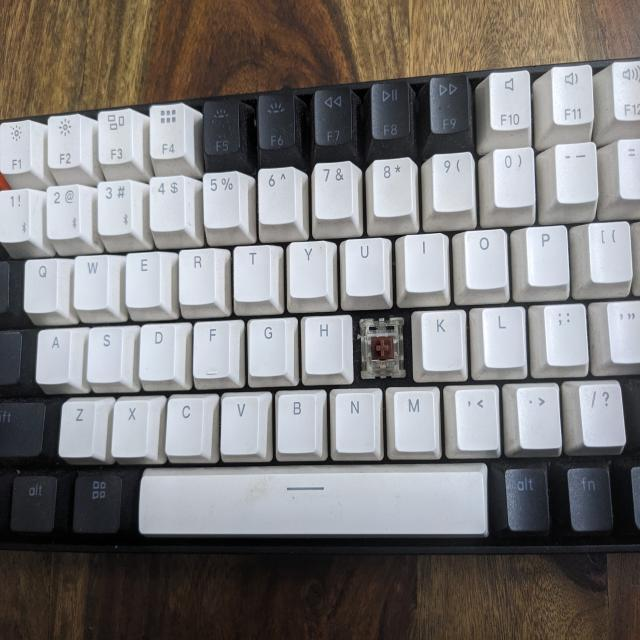key-switch: (361, 321, 404, 376)
